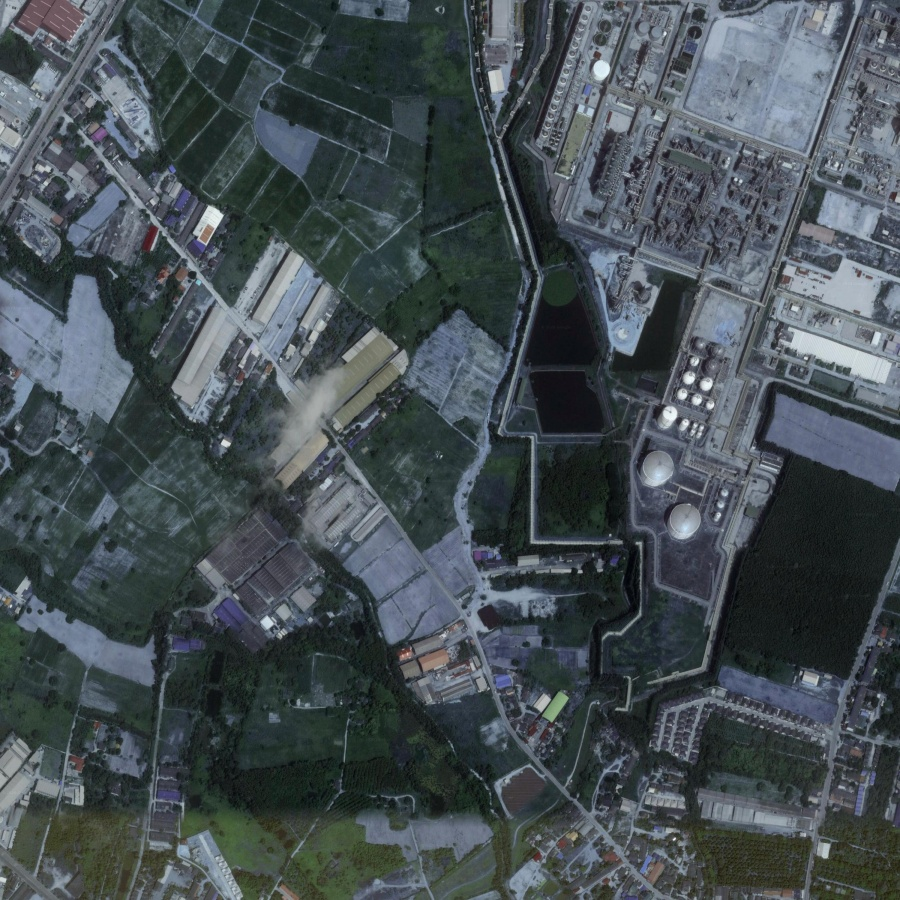PowerPlant: (550, 93, 802, 552)
